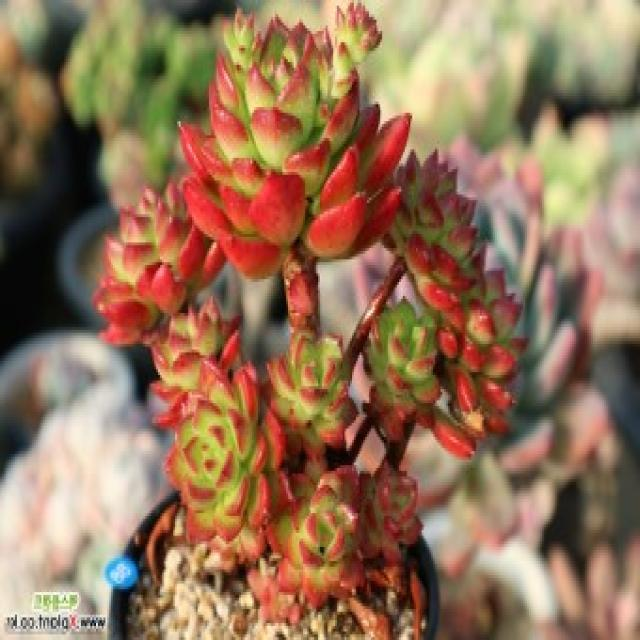Letizia: (180, 6, 411, 276), (94, 183, 220, 344), (166, 359, 271, 541), (391, 152, 482, 315), (268, 466, 364, 608), (365, 300, 440, 441), (268, 331, 356, 448)
